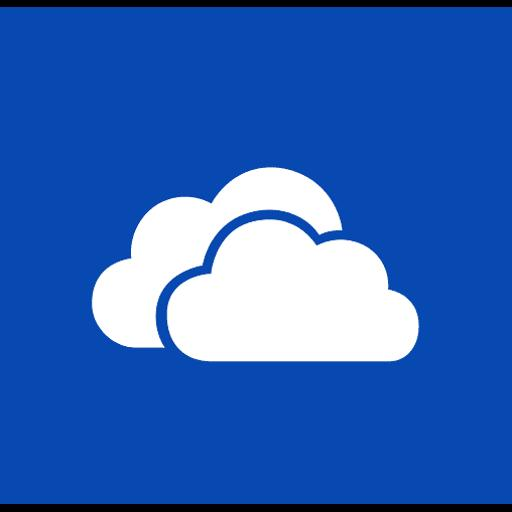Microsoft OneDrive: (0, 7, 512, 504)
